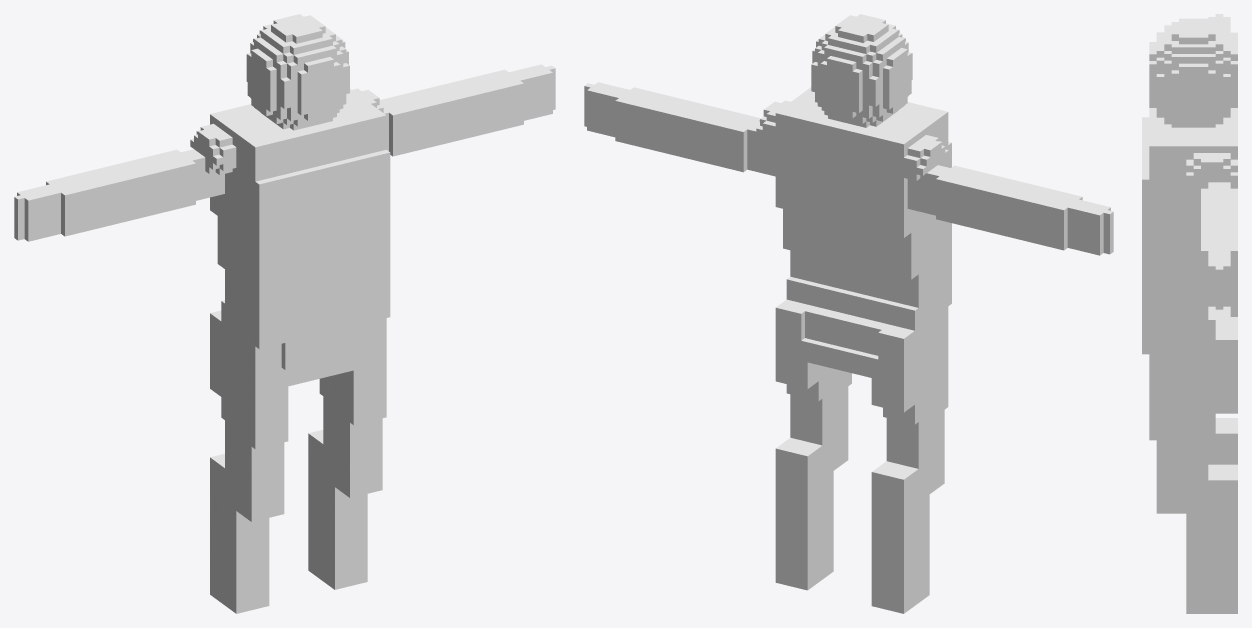
The model's file is humanoid-compound.fbx.
3 views of the same model, side by side, from view 1: azimuth 30°, elevation 25°; view 2: azimuth 150°, elevation 25°; view 3: azimuth 270°, elevation 25° (orthographic). The views are drawn at different scales.
Parts seen in each view (by area): view 1: _3, _4, _12, _1, _10, _9, _13, _6, _7, object 8, _11; view 2: _3, _4, _12, _1, _9, _10, _13, _6, _11, _7, object 8; view 3: _13, _3, _1, _10, _4, _11, object 8, _9, _7, _12.
Boxes of the visible parts, box(x1,y1,x2,y2) form: _3: box(210, 89, 390, 280); _4: box(217, 248, 390, 369); _12: box(210, 310, 320, 487); _1: box(246, 14, 349, 130); _10: box(308, 430, 382, 589); _9: box(210, 453, 284, 613); _13: box(319, 318, 386, 463); _6: box(105, 123, 236, 221); _7: box(14, 167, 123, 241); object 8: box(446, 64, 555, 138); _11: box(352, 84, 464, 156); _3: box(775, 87, 951, 266); _4: box(783, 235, 951, 355); _12: box(839, 306, 948, 468); _1: box(811, 14, 912, 127); _9: box(871, 450, 944, 613); _10: box(775, 427, 848, 590); _13: box(775, 299, 851, 445); _6: box(904, 135, 1024, 236); _11: box(673, 100, 790, 176); _7: box(1006, 182, 1113, 255); object 8: box(584, 82, 690, 154); _13: box(1149, 327, 1237, 480); _3: box(1142, 108, 1237, 273); _1: box(1149, 18, 1237, 127); _10: box(1156, 464, 1237, 613); _4: box(1142, 273, 1230, 354); _11: box(1186, 153, 1237, 222); object 8: box(1201, 222, 1237, 309); _9: box(1208, 418, 1237, 464); _7: box(1208, 14, 1237, 41); _12: box(1230, 291, 1237, 327).
Bounding box in the file's own units: 82 × 83 × 13.
Materials: 1 (1 with a texture image).
